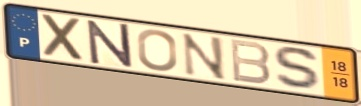B: (228, 37, 273, 86)
N: (84, 19, 136, 70), (180, 31, 228, 82)
O: (135, 28, 180, 73)
S: (271, 45, 326, 93)
X: (39, 11, 87, 64)
